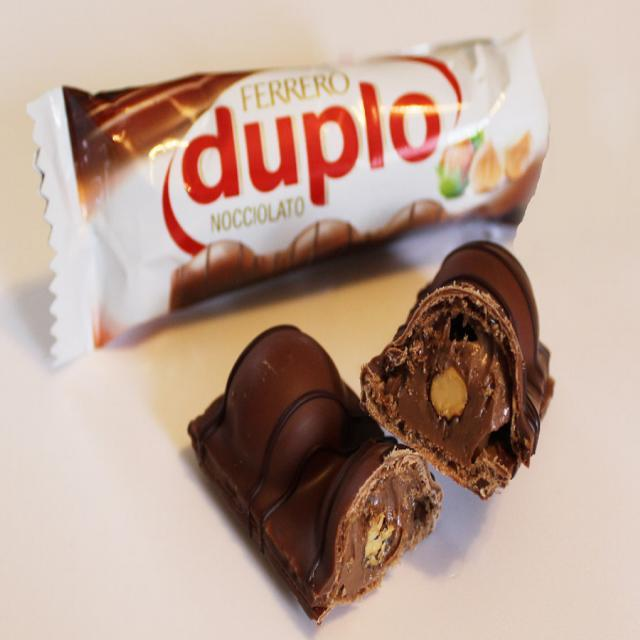Chocolate bar: (29, 29, 557, 343)
Chocolate bar packaged: (176, 325, 455, 623), (361, 242, 558, 508)
